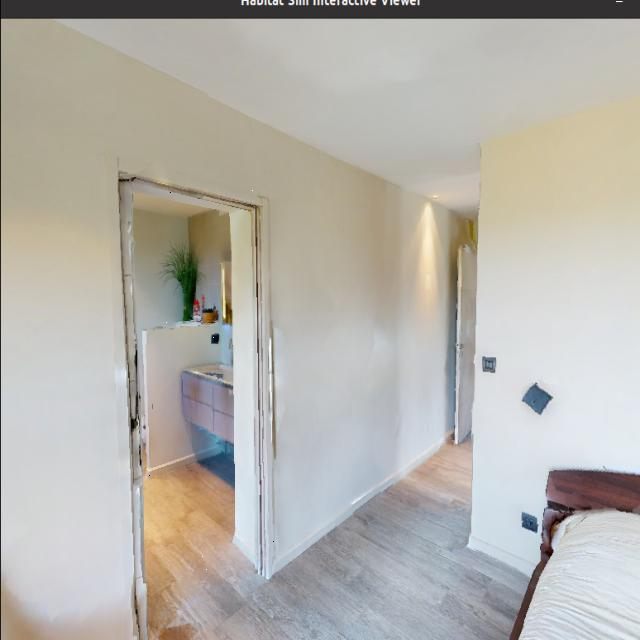door-frame: (100, 157, 294, 609)
